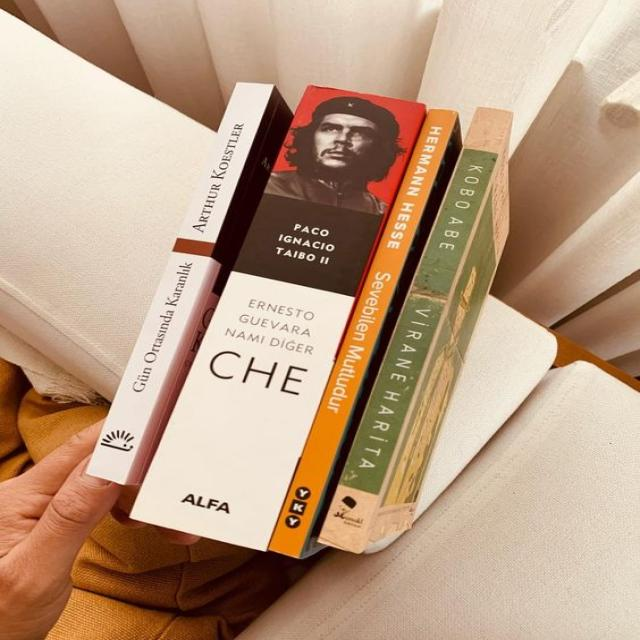book: (130, 88, 424, 550), (322, 103, 513, 551), (271, 111, 458, 556), (90, 83, 290, 484)
